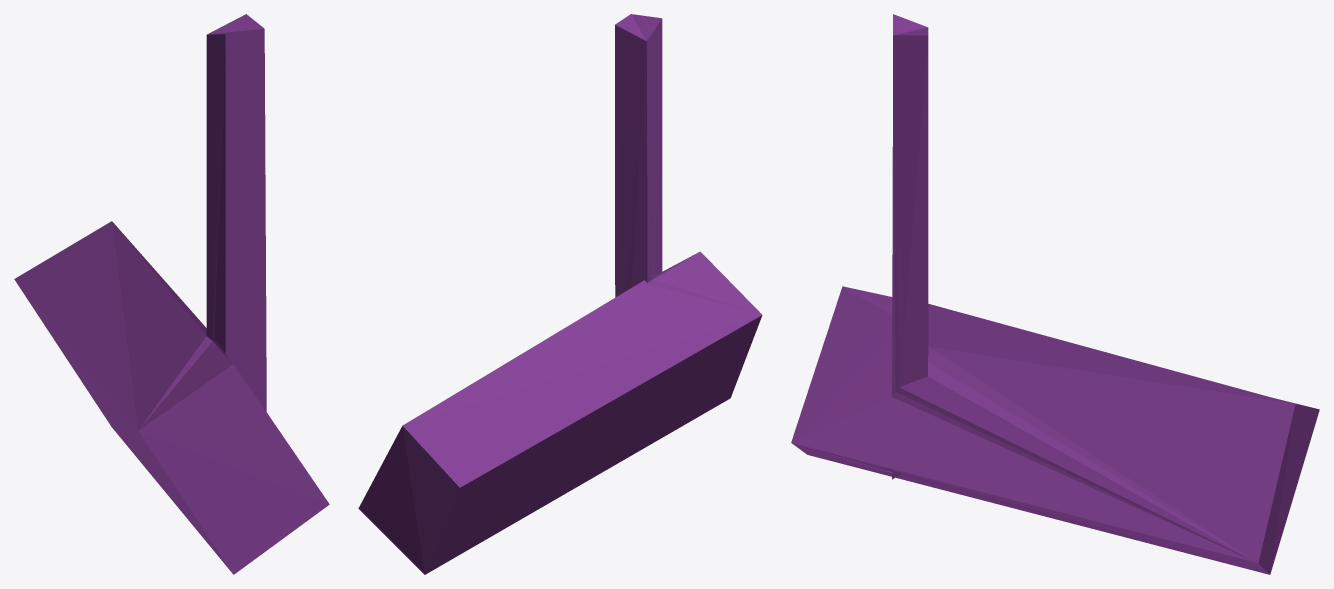
The picture shows the model from 3 angles, left to right: view 1: azimuth 30°, elevation 25°; view 2: azimuth 150°, elevation 25°; view 3: azimuth 270°, elevation 25°; orthographic projection. The views are drawn at different scales.
Visible parts, largest first — view 1: 957_Cube.3873; view 2: 957_Cube.3873; view 3: 957_Cube.3873.
Part boxes in pixels (<box>): 957_Cube.3873: <box>14,14,329,574</box>; 957_Cube.3873: <box>358,14,762,574</box>; 957_Cube.3873: <box>791,14,1319,574</box>.
Bounding box in the file's own units: 7.54 × 14.24 × 13.11.
